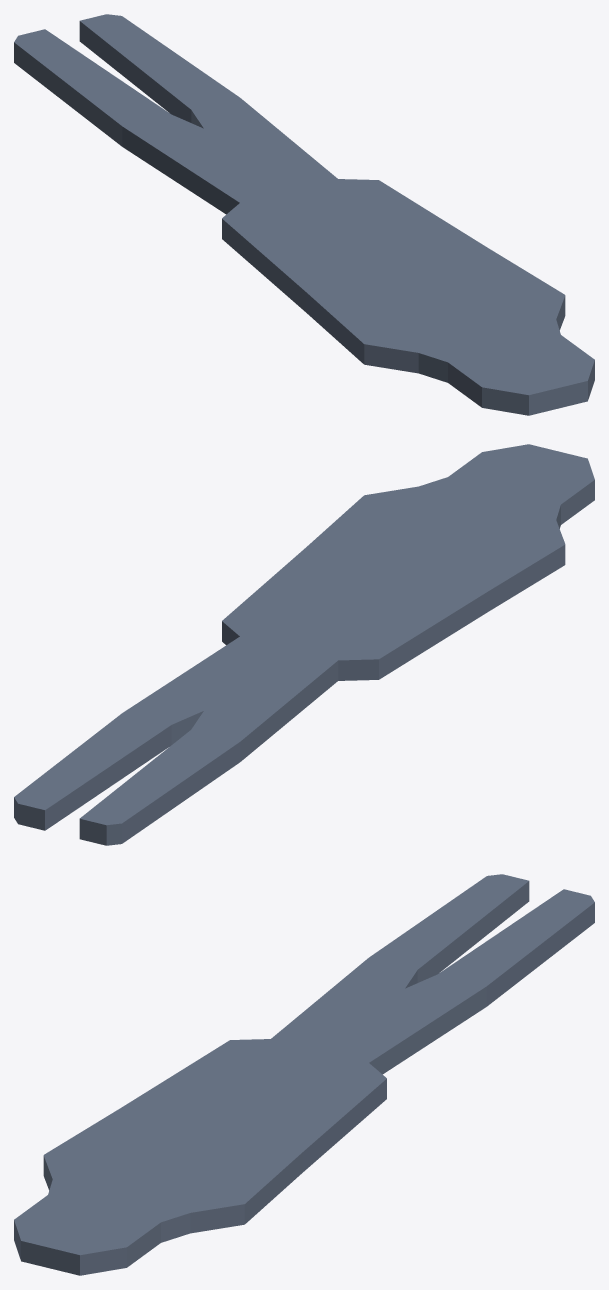
File: person.obj
3 renders of one model, top to bottom at view 1: azimuth 30°, elevation 25°; view 2: azimuth 150°, elevation 25°; view 3: azimuth 330°, elevation 25°, orthographic.
Bounding box in the file's own units: 0.41 × 0.04 × 1.75.
